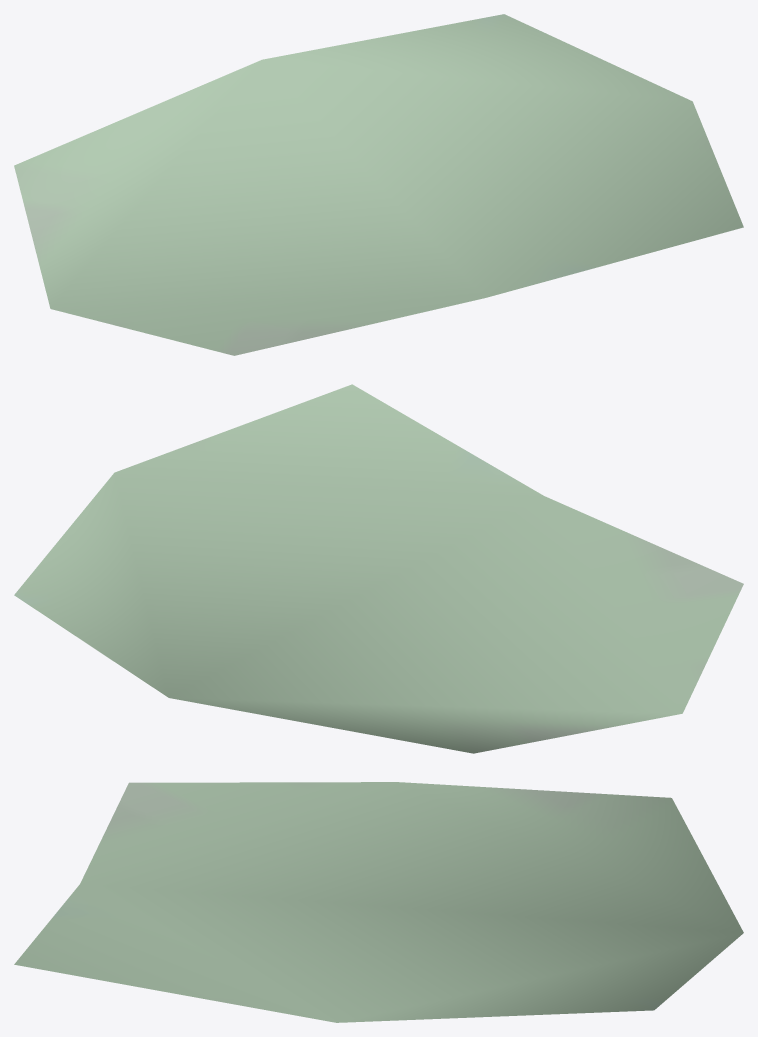
File: TROLLHOLE02_HOLECAP191.fbx
The picture shows the model from 3 angles, top to bottom: view 1: azimuth 30°, elevation 25°; view 2: azimuth 150°, elevation 25°; view 3: azimuth 270°, elevation 25°; orthographic projection. The views are drawn at different scales.
Visible parts, largest first — view 1: TROLLHOLE02_HOLECAP191; view 2: TROLLHOLE02_HOLECAP191; view 3: TROLLHOLE02_HOLECAP191.
Boxes of the visible parts, left/top/right/bottom form: TROLLHOLE02_HOLECAP191: left=14, top=14, right=743, bottom=355; TROLLHOLE02_HOLECAP191: left=14, top=384, right=743, bottom=753; TROLLHOLE02_HOLECAP191: left=14, top=782, right=743, bottom=1022.
Bounding box in the file's own units: 12674 × 1666 × 11993.
1 material, 1 textured.
